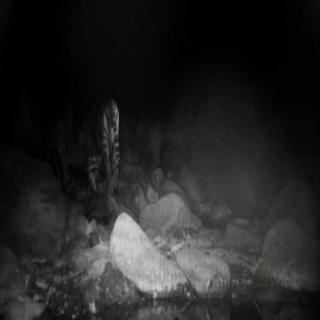Tiger: (98, 99, 124, 188)
